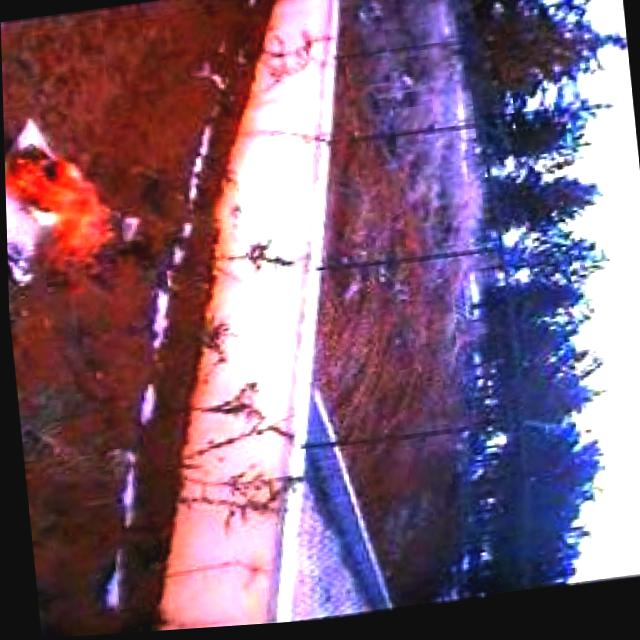helmet: (3, 129, 125, 301)
